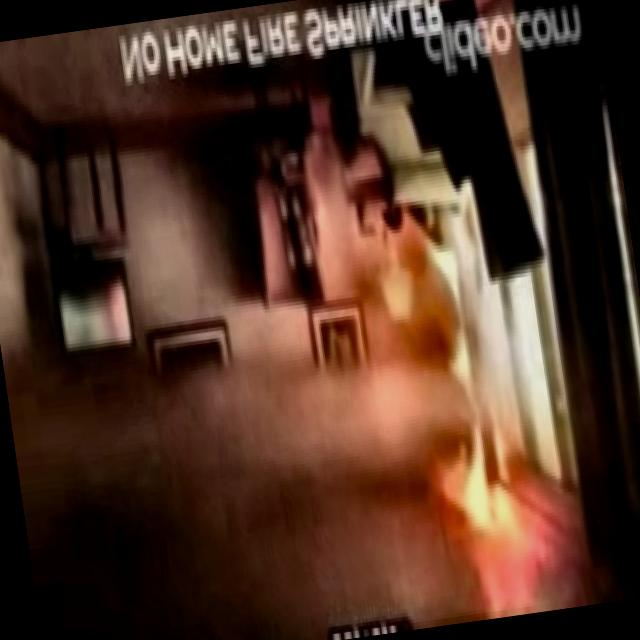fire: (397, 232, 562, 625)
